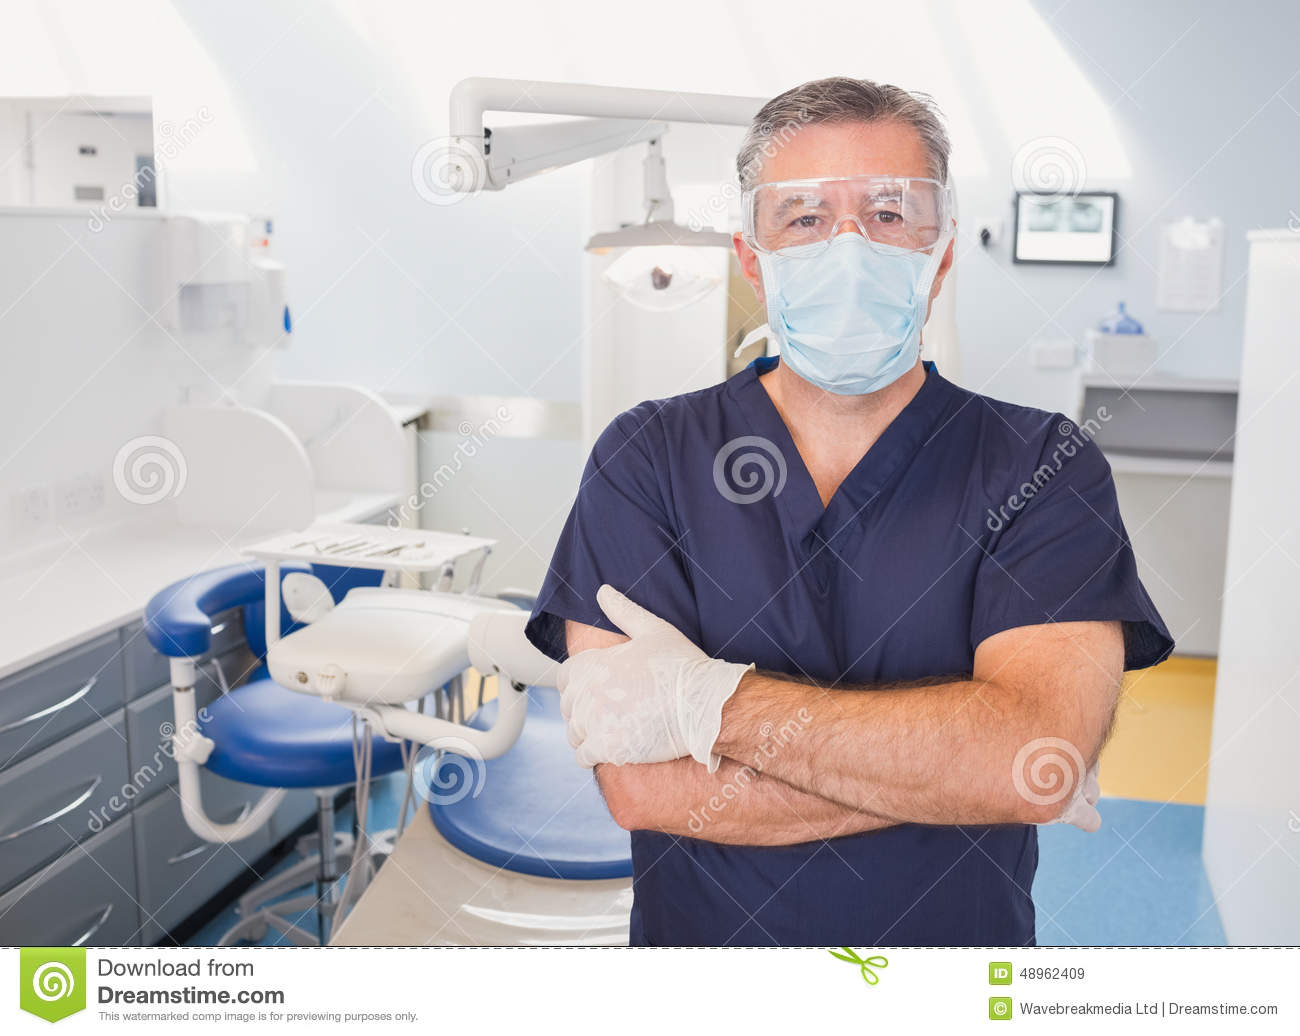mask: (754, 236, 932, 407)
